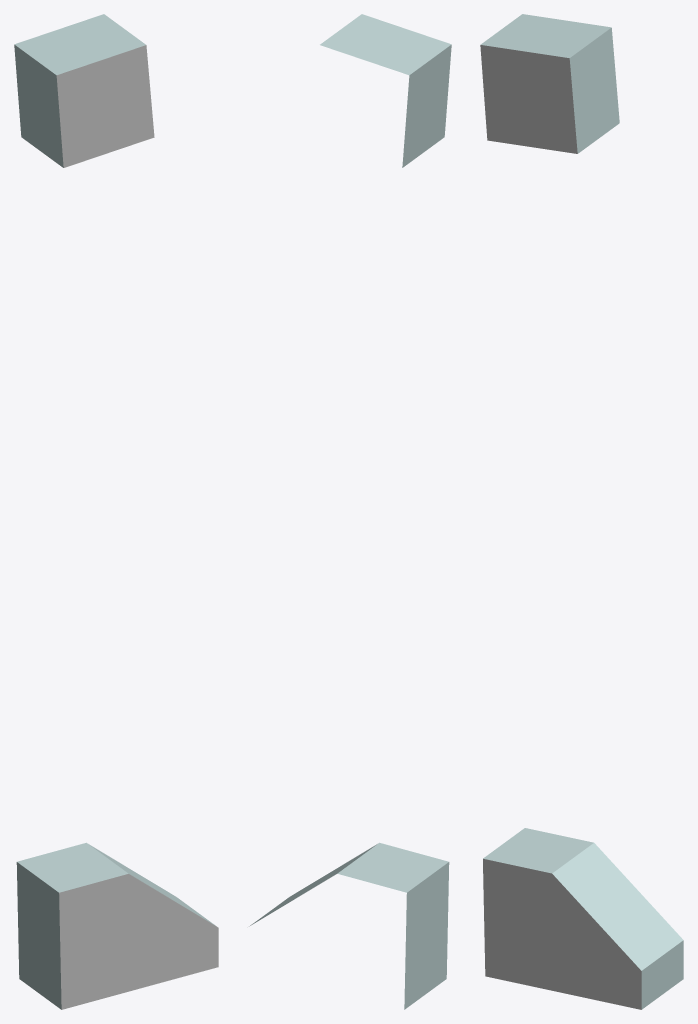
3 renders of one model, left to right at view 1: azimuth 30°, elevation 25°; view 2: azimuth 150°, elevation 25°; view 3: azimuth 330°, elevation 25°, orthographic.
Visible parts, largest first — view 1: 0_3_2_1_2_0_1_3_0; view 2: 0_3_2_1_2_0_1_3_0; view 3: 0_3_2_1_2_0_1_3_0.
Boxes of the visible parts, left/top/right/bottom form: 0_3_2_1_2_0_1_3_0: left=14, top=14, right=218, bottom=1009; 0_3_2_1_2_0_1_3_0: left=249, top=14, right=451, bottom=1009; 0_3_2_1_2_0_1_3_0: left=480, top=14, right=683, bottom=1009.
Bounding box in the file's own units: 6.63 × 36.89 × 3.
